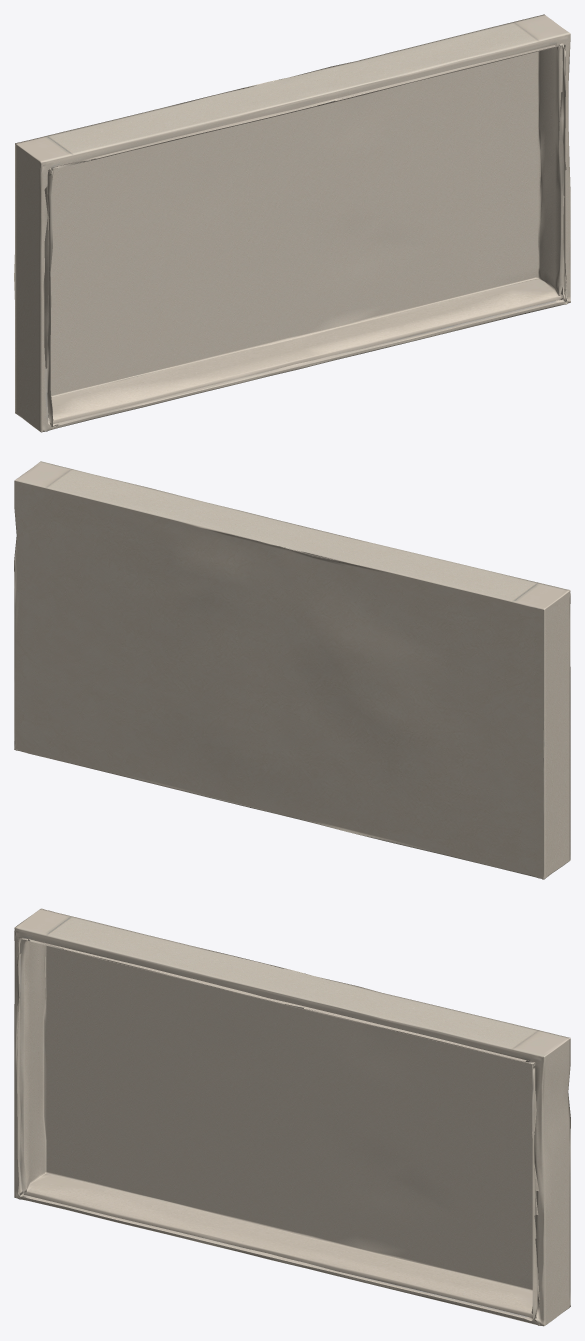
File: ck_plaster_slab_v2-cleaned.glb
3 views of the same model, one above another, from view 1: azimuth 30°, elevation 25°; view 2: azimuth 150°, elevation 25°; view 3: azimuth 330°, elevation 25° (orthographic).
Bounding box in the file's own units: 0.9497 × 0.4648 × 0.0986.
Materials: 1 (1 with a texture image).
